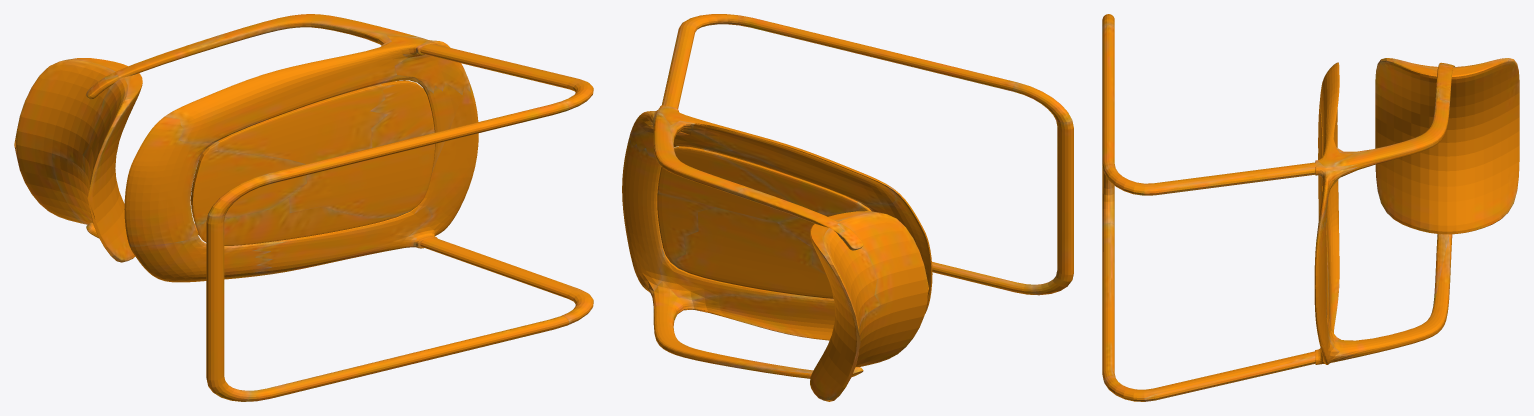
The model's file is chair_13.glb.
3 views of the same model, side by side, from view 1: azimuth 30°, elevation 25°; view 2: azimuth 150°, elevation 25°; view 3: azimuth 270°, elevation 25° (orthographic). The views are drawn at different scales.
Visible parts, largest first — view 1: chair_13; view 2: chair_13; view 3: chair_13.
Boxes of the visible parts, x1=… form: chair_13: x1=14, y1=14, x2=593, y2=401; chair_13: x1=622, y1=14, x2=1073, y2=401; chair_13: x1=1102, y1=14, x2=1519, y2=401.
Bounding box in the file's own units: 1.65 × 0.8808 × 1.52.
1 material, 1 textured.
